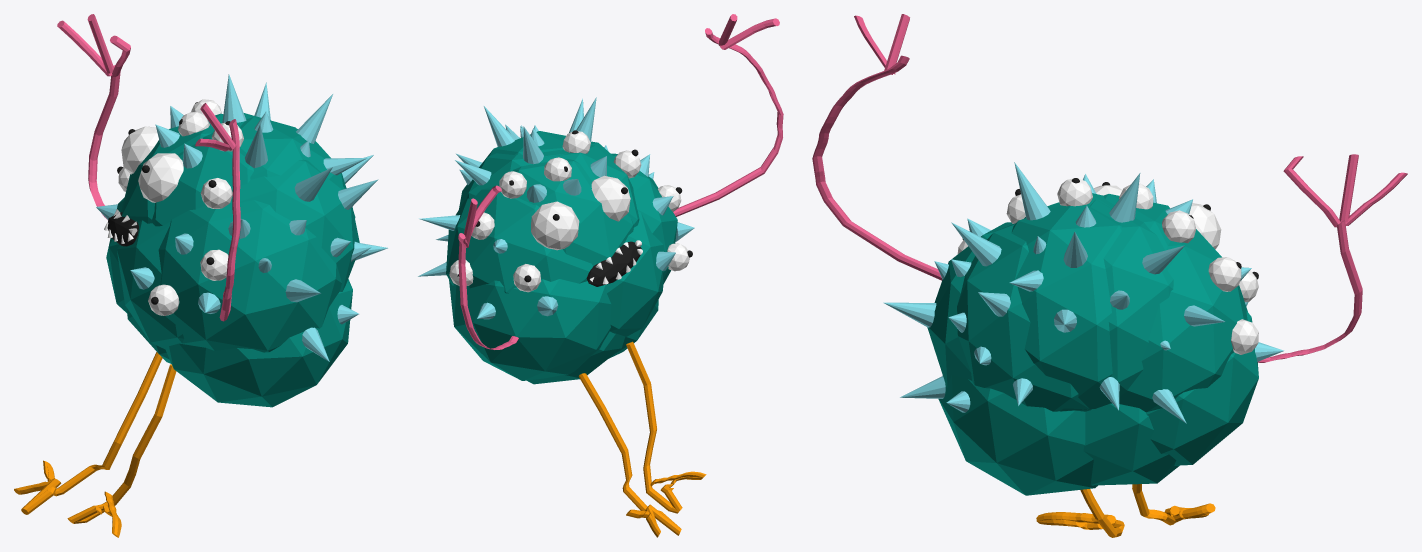
File: littleMonster.fbx
3 renders of one model, left to right at view 1: azimuth 30°, elevation 25°; view 2: azimuth 150°, elevation 25°; view 3: azimuth 270°, elevation 25°, orthographic. The views are drawn at different scales.
Visible parts, largest first — view 1: default; view 2: default; view 3: default.
Boxes of the visible parts, left/top/right/bottom form: default: left=14, top=14, right=387, bottom=537; default: left=418, top=14, right=783, bottom=537; default: left=812, top=14, right=1407, bottom=537.
Bounding box in the file's own units: 0.8592 × 1.31 × 1.32.
